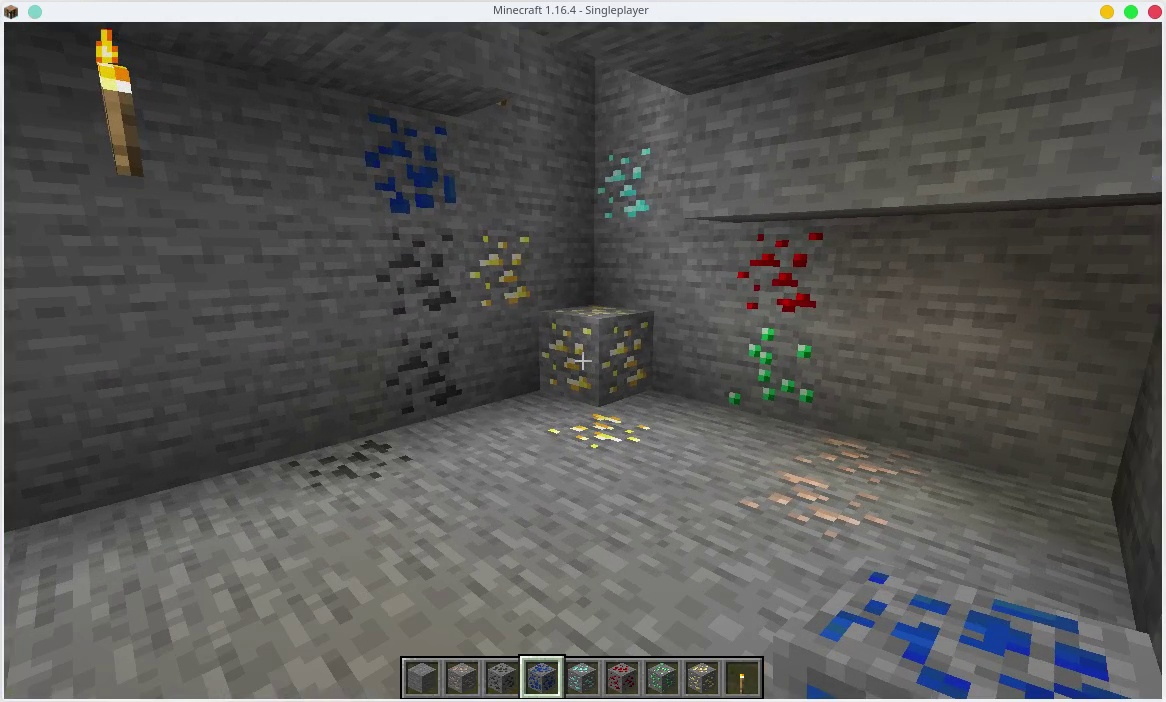gold: (537, 310, 650, 395), (537, 407, 652, 452), (468, 232, 528, 311), (687, 661, 718, 692)
